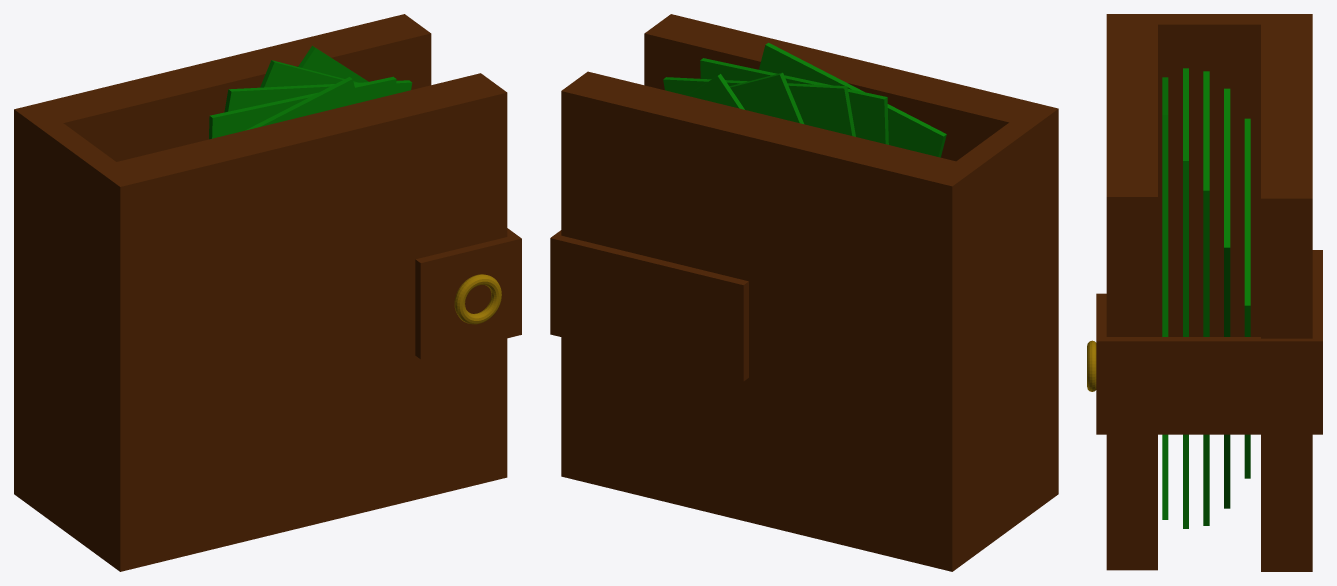
File: Wallet1.fbx
3 views of the same model, side by side, from view 1: azimuth 30°, elevation 25°; view 2: azimuth 150°, elevation 25°; view 3: azimuth 270°, elevation 25° (orthographic). The views are drawn at different scales.
Visible parts, largest first — view 1: Cube, Plane.003, Plane.002, Plane.004, Plane.001, Torus, Plane; view 2: Cube, Plane.004, Plane.002, Plane.003, Plane.001, Plane; view 3: Cube, Plane.002, Plane.004, Plane.001, Plane.003, Plane, Torus.
Boxes of the visible parts, <box> form: Cube: <box>14,14,521,571</box>; Plane.003: <box>209,76,396,139</box>; Plane.002: <box>224,80,412,112</box>; Plane.004: <box>245,77,358,130</box>; Plane.001: <box>260,60,357,87</box>; Torus: <box>454,274,501,324</box>; Plane: <box>298,45,368,82</box>; Cube: <box>550,14,1058,571</box>; Plane.004: <box>759,42,946,157</box>; Plane.002: <box>663,77,855,136</box>; Plane.003: <box>700,58,888,144</box>; Plane.001: <box>729,72,803,123</box>; Plane: <box>687,74,744,109</box>; Cube: <box>1096,14,1322,571</box>; Plane.002: <box>1203,71,1209,525</box>; Plane.004: <box>1162,77,1168,519</box>; Plane.001: <box>1224,88,1230,508</box>; Plane.003: <box>1183,68,1188,528</box>; Plane: <box>1244,118,1250,478</box>; Torus: <box>1087,340,1096,391</box>.
Bounding box in the file's own units: 221 × 224 × 115.
